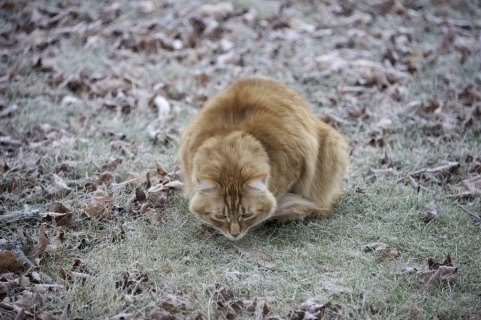Cat: (175, 82, 348, 246)
